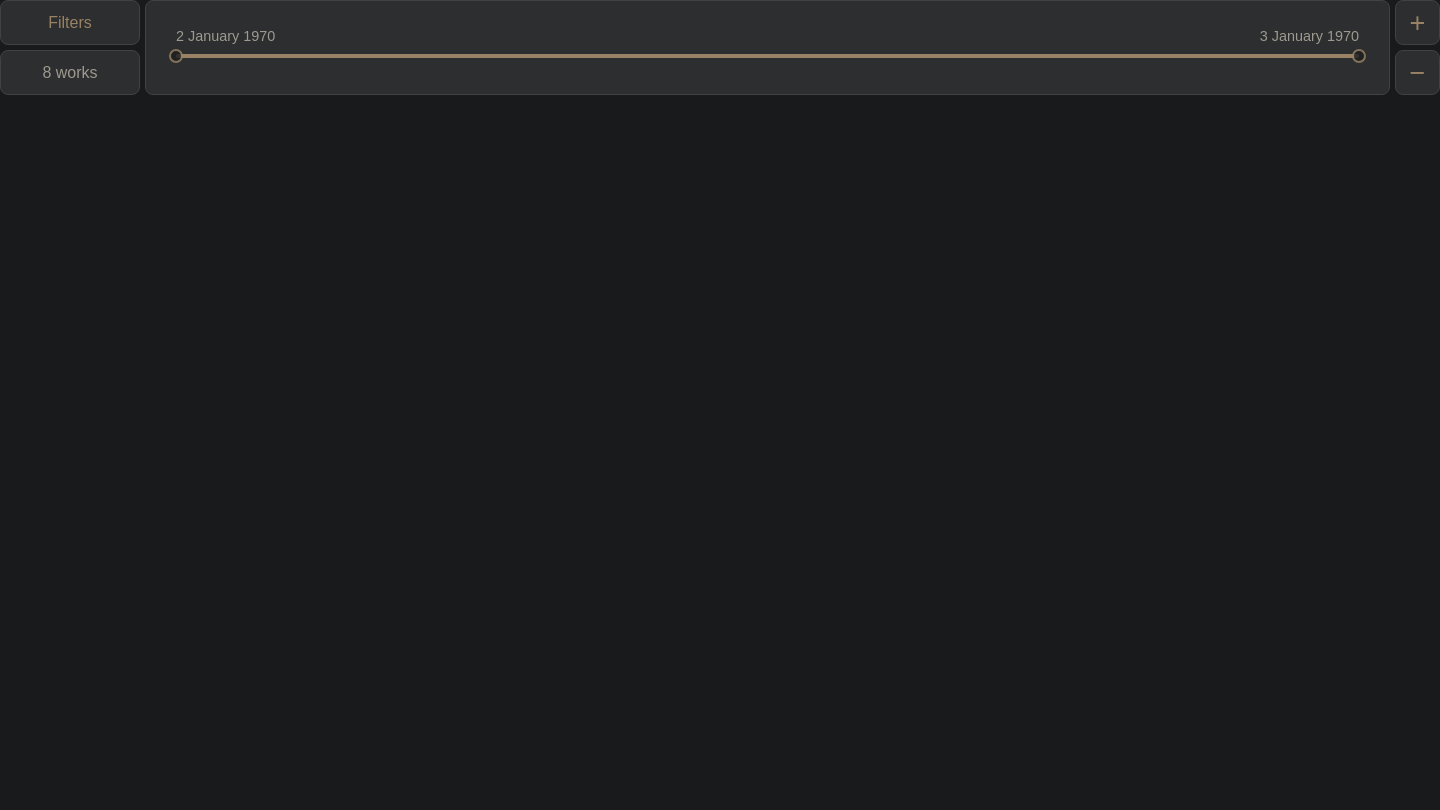
Test: MapControls › disables periods that have no matching work for the selected pending type
The image size is (1440, 810).
Click the button with aria-label "Toggle filters".
click(70, 22)  # box x1=0 y1=0 x2=140 y2=45
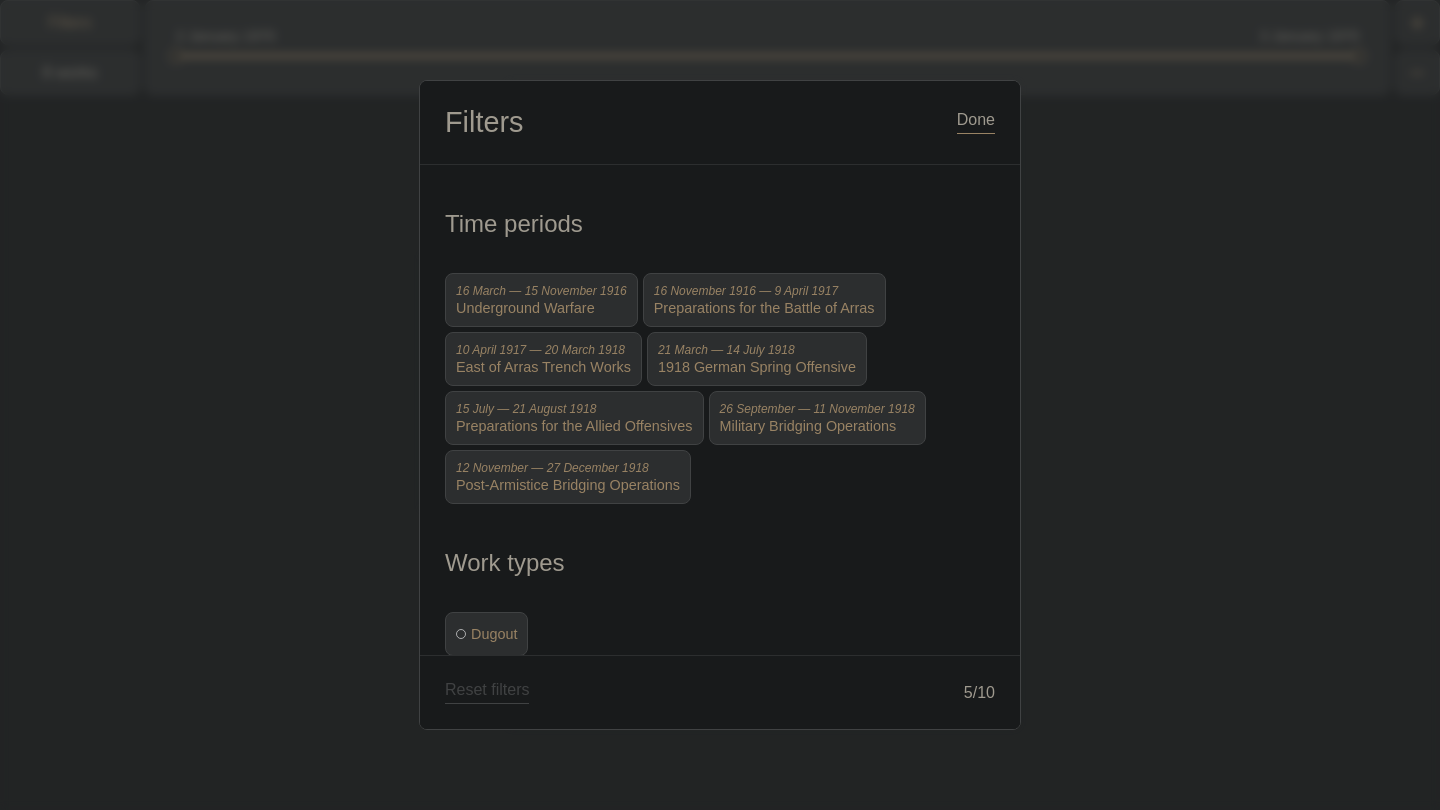
Click the button "Dugout".
click(487, 634)  # box x1=445 y1=612 x2=528 y2=656
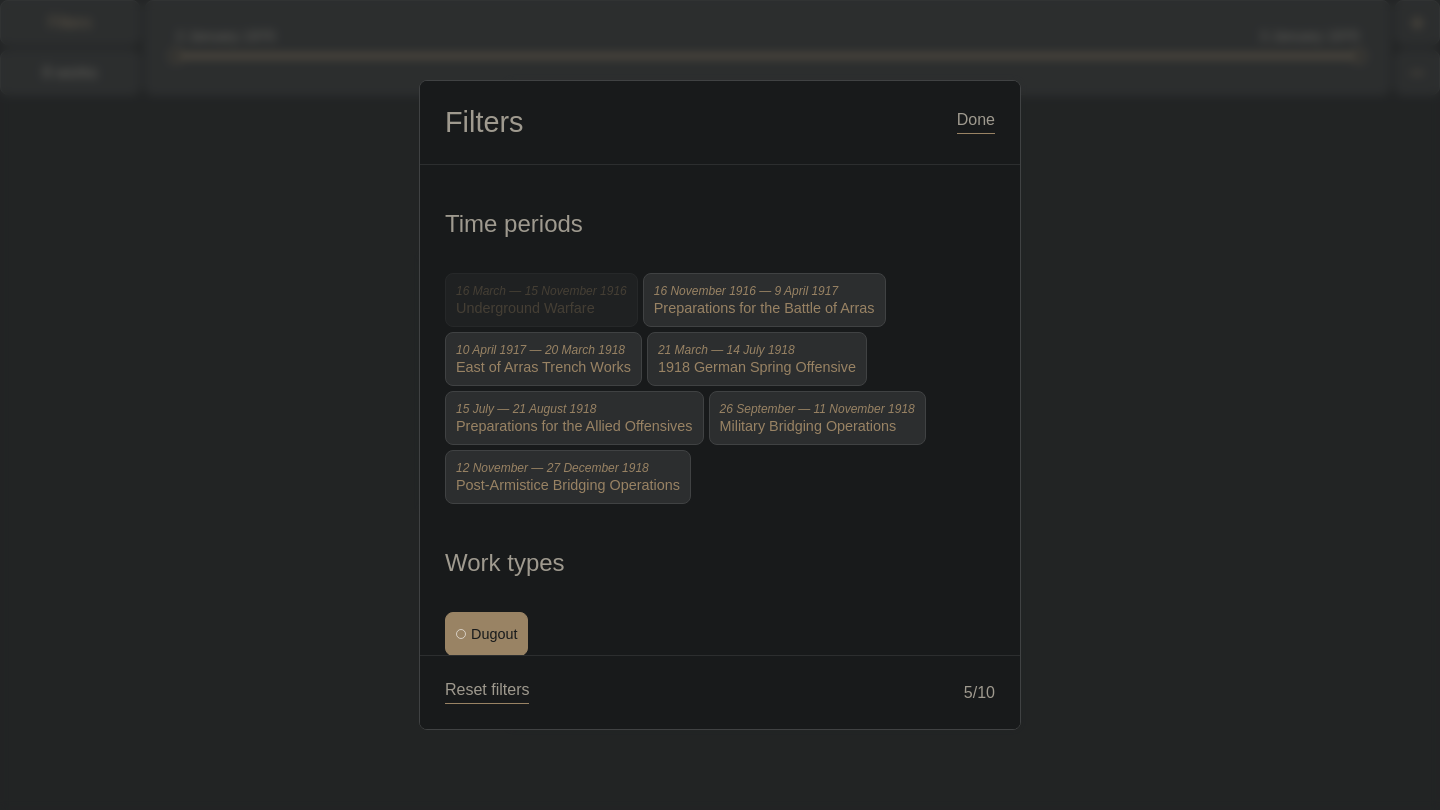
Expected: the button "Preparations for the Battle of Arras" is enabled, x1=643 y1=273 x2=886 y2=327
Expected: the button "16 March — 15 November 1916 Underground Warfare" is disabled, x1=445 y1=273 x2=638 y2=327
